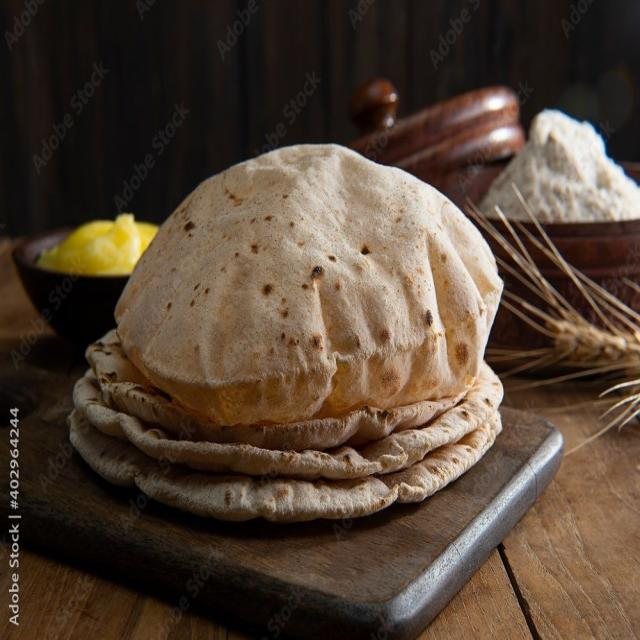ROTI: (115, 145, 502, 426), (74, 335, 501, 479), (69, 411, 500, 522)
